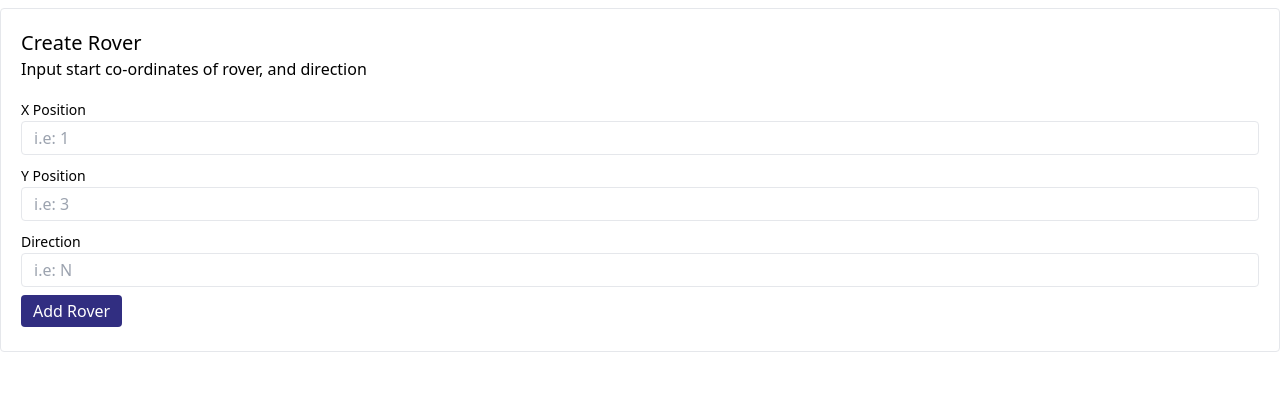
<RoverForm /> › shows an error message when invalid direction has been provided and "Add Rover" is clicked
The image size is (1280, 415).
Type "3" into the number field labelled "X Position" at [640, 138], box [21,121,1259,155]
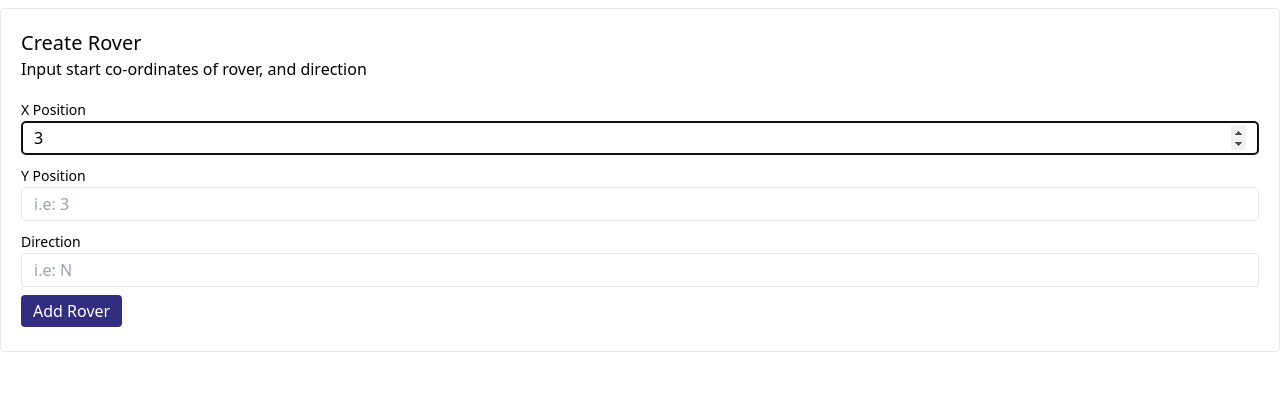
Type "3" into the number field labelled "Y Position" at [640, 204], box [21,187,1259,221]
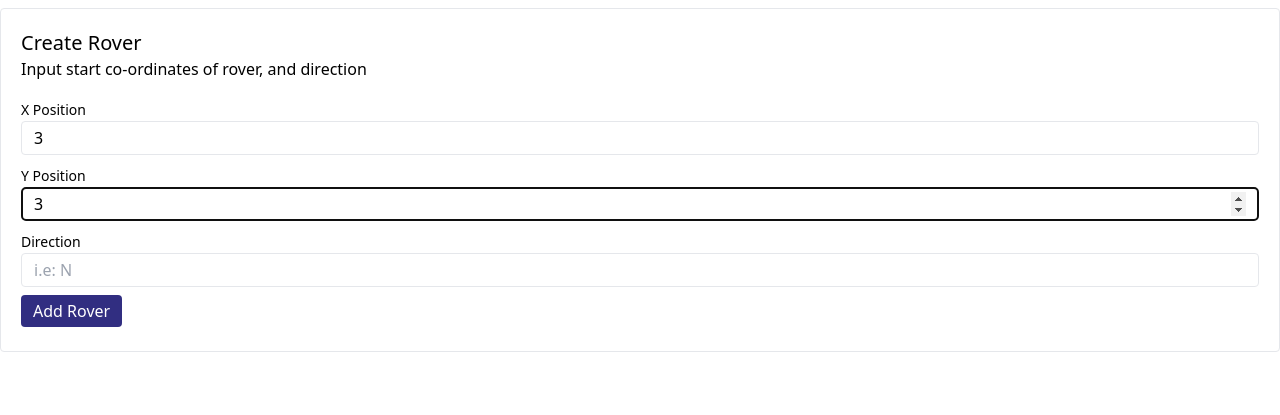
Type "A" into the field labelled "Direction" at [640, 270], box [21,253,1259,287]
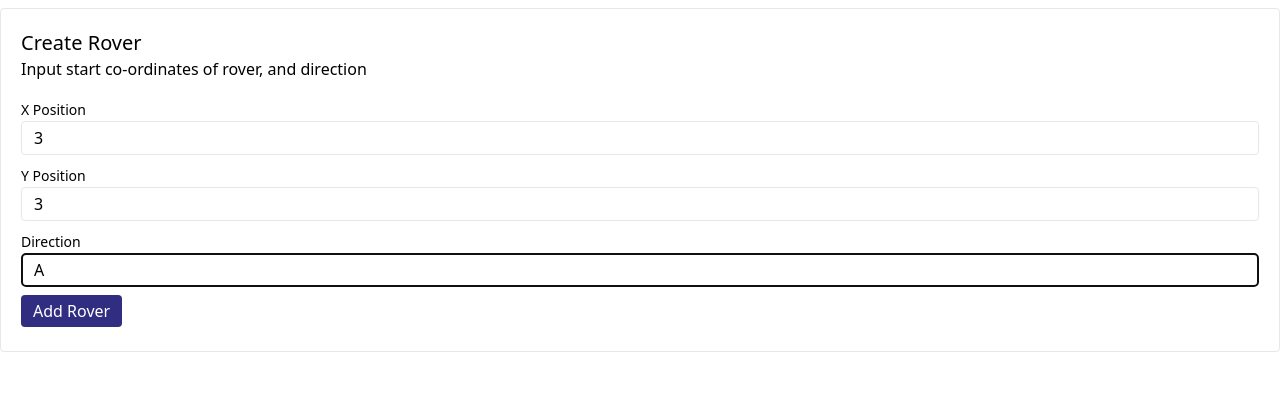
Click the button "Add Rover" at [72, 311], box [21,295,122,327]
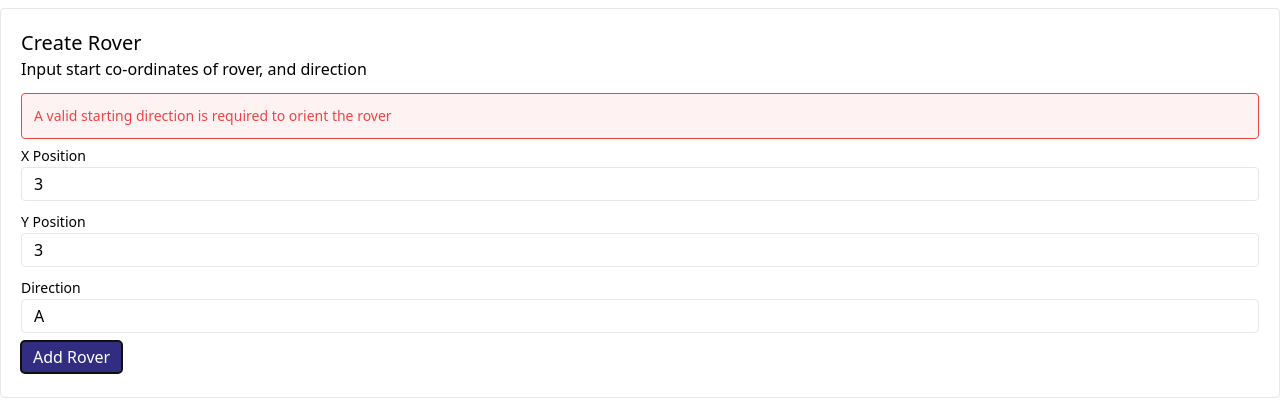
Expected: the message reads "A valid starting direction is required to orient the rover", [34,106,392,125]
